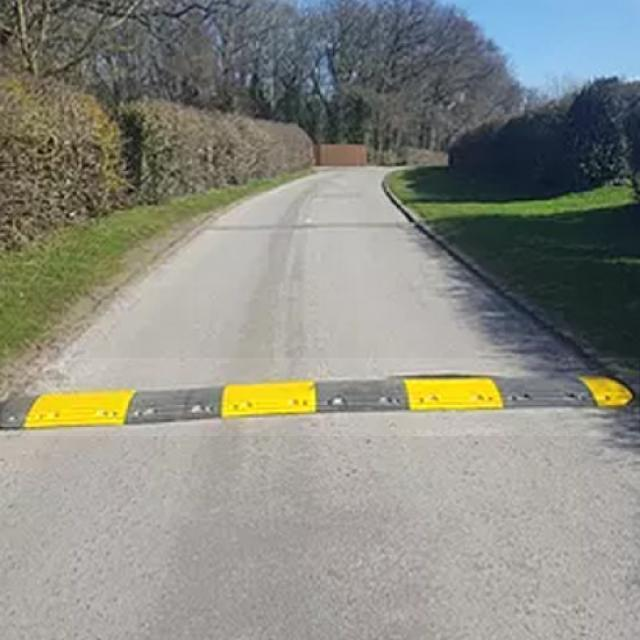Marked Bump: (16, 363, 622, 432)
